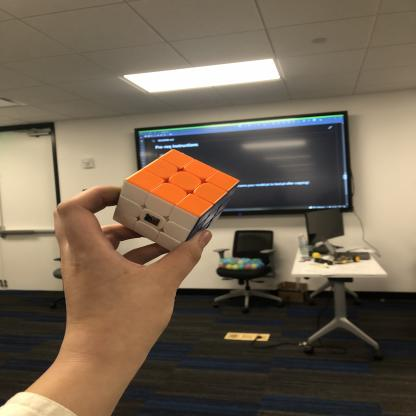SolvedCube: (117, 149, 236, 253)
